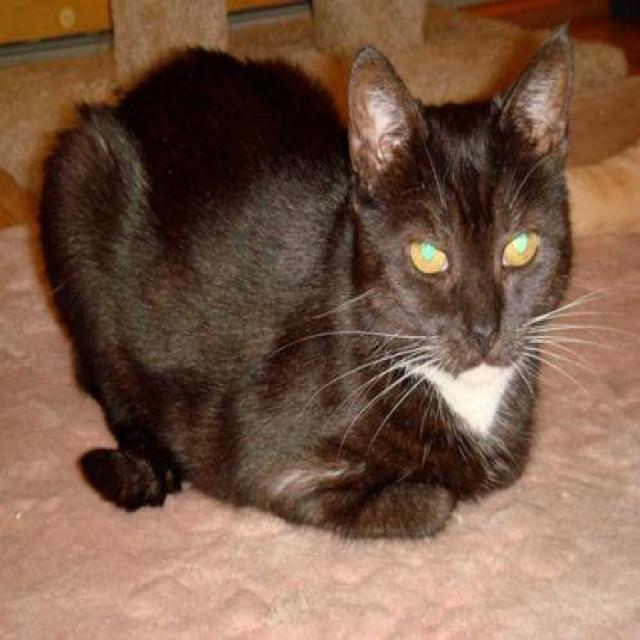cat: (33, 20, 616, 542)
